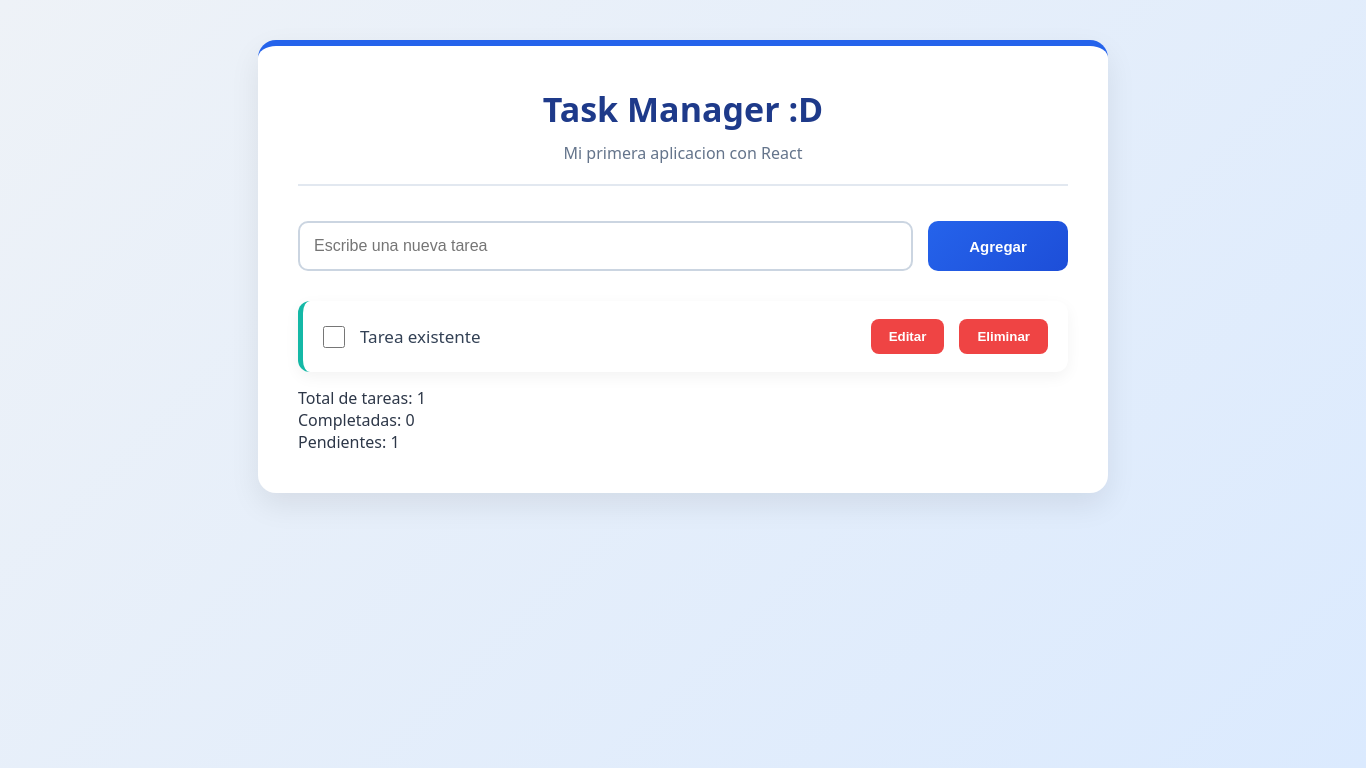
Test case: App › elimina una tarea de la lista
Expected: the text "Tarea existente" is shown, [360,325,481,348]
Click the button "Eliminar". click: [1004, 336]
box: [959,319,1048,354]
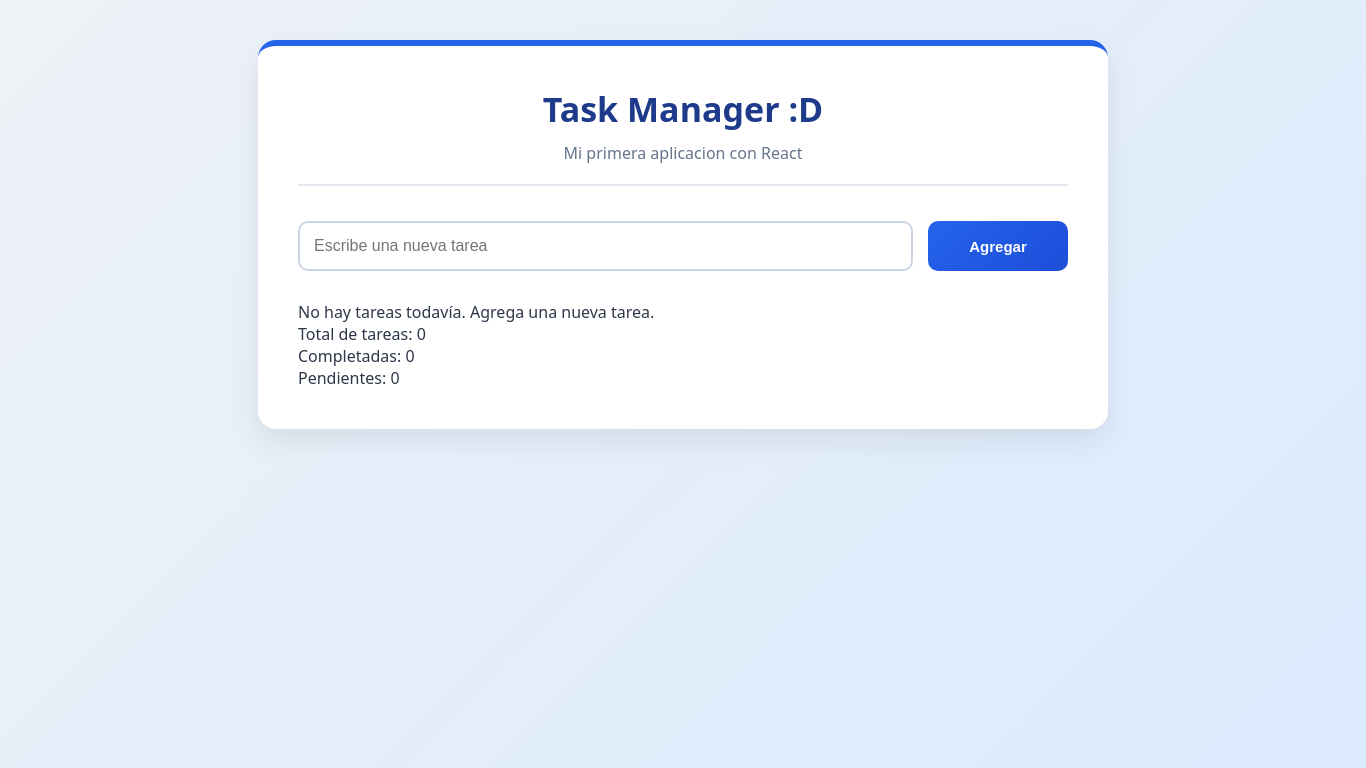
Now the text "Tarea existente" is gone
